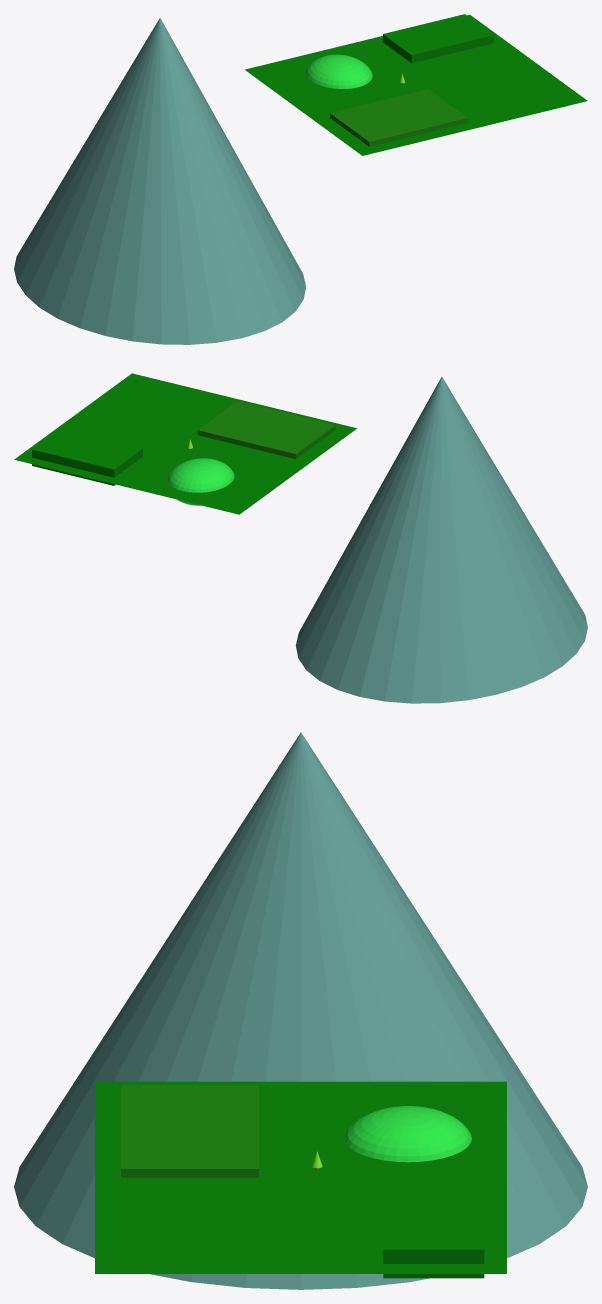
Rendered from firstlandscape.dae.
3 views of the same model, one above another, from view 1: azimuth 30°, elevation 25°; view 2: azimuth 150°, elevation 25°; view 3: azimuth 270°, elevation 25° (orthographic). The views are drawn at different scales.
Visible parts, largest first — view 1: Cone.001, Plane, Cube, Cube.001, Sphere; view 2: Cone.001, Plane, Cube, Cube.001, Sphere; view 3: Cone.001, Plane, Cube, Cube.001, Sphere.
Part boxes in pixels (x1=…): Cone.001: x1=14, y1=18, x2=305, y2=344; Plane: x1=245, y1=14, x2=587, y2=155; Cube: x1=330, y1=89, x2=467, y2=146; Cube.001: x1=383, y1=14, x2=493, y2=63; Sphere: x1=306, y1=54, x2=372, y2=88; Cone.001: x1=295, y1=376, x2=587, y2=703; Plane: x1=14, y1=373, x2=356, y2=514; Cube: x1=197, y1=401, x2=335, y2=458; Cube.001: x1=32, y1=428, x2=142, y2=485; Sphere: x1=168, y1=458, x2=234, y2=505; Cone.001: x1=14, y1=732, x2=587, y2=1289; Plane: x1=95, y1=1081, x2=506, y2=1273; Cube: x1=121, y1=1085, x2=258, y2=1177; Cube.001: x1=383, y1=1179, x2=484, y2=1278; Sphere: x1=344, y1=1106, x2=471, y2=1162.
Bounding box in the file's own units: 182 × 106 × 92.67.
